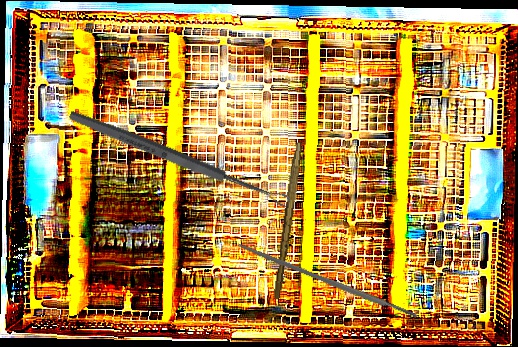Scalpel Handle: (237, 241, 418, 321), (272, 140, 303, 301)
Surgical Spoon: (67, 107, 292, 211)
